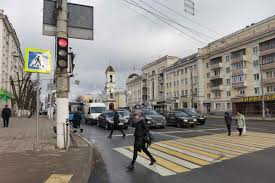tl: (57, 36, 69, 69)
